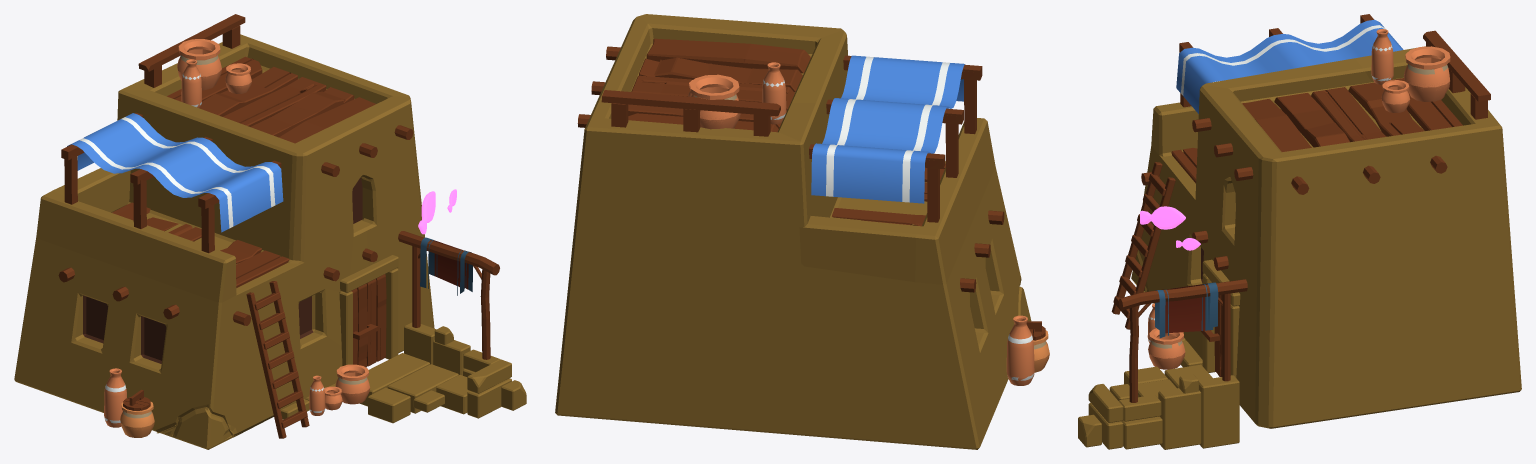
Rendered from desert-house - 副本.glb.
3 renders of one model, left to right at view 1: azimuth 30°, elevation 25°; view 2: azimuth 150°, elevation 25°; view 3: azimuth 270°, elevation 25°, orthographic. The views are drawn at different scales.
Visible parts, largest first — view 1: 整体, 布料, 屋顶木块, 布料架子, 房门, 屋顶木块.001, 楼梯1.001, 平面.002, 柱体.001, 柱体.007, 楼梯1, 柱体.008 (+24 smaller); view 2: 整体, 布料, 屋顶木块, 平面.002, 布料架子, 柱体.008, 小罐子.001, 屋顶木块.001, 小罐子.004, 柱体.003, 带把手罐; view 3: 整体, 屋顶木块, 布料, 屋檐台阶.004, 柱体.007, 屋檐台阶.003, 柱体.008, 柱体.001, 平面.002, 楼梯1.001, 楼梯1, 柱体.010 (+20 smaller).
Part boxes in pixels (<box>): 整体: <box>14,34,434,449</box>; 布料: <box>67,113,283,232</box>; 屋顶木块: <box>167,56,375,143</box>; 布料架子: <box>61,112,281,253</box>; 房门: <box>351,274,386,367</box>; 屋顶木块.001: <box>112,202,289,287</box>; 楼梯1.001: <box>246,281,309,438</box>; 平面.002: <box>138,14,245,87</box>; 柱体.001: <box>233,231,499,325</box>; 柱体.007: <box>420,237,472,295</box>; 楼梯1: <box>254,292,307,428</box>; 柱体.008: <box>177,39,221,90</box>; 整体: <box>555,14,1031,449</box>; 布料: <box>811,55,964,203</box>; 屋顶木块: <box>628,38,810,132</box>; 平面.002: <box>601,90,780,136</box>; 布料架子: <box>809,55,982,222</box>; 柱体.008: <box>689,74,740,129</box>; 小罐子.001: <box>1006,315,1034,385</box>; 屋顶木块.001: <box>832,163,945,226</box>; 小罐子.004: <box>762,62,786,124</box>; 柱体.003: <box>960,210,1004,292</box>; 带把手罐: <box>1033,330,1049,372</box>; 整体: <box>1131,46,1521,428</box>; 屋顶木块: <box>1242,78,1462,151</box>; 布料: <box>1176,19,1403,113</box>; 屋檐台阶.004: <box>1199,375,1239,448</box>; 柱体.007: <box>1155,282,1218,338</box>; 屋檐台阶.003: <box>1158,388,1201,449</box>; 柱体.008: <box>1403,46,1450,101</box>; 柱体.001: <box>1118,172,1247,310</box>; 平面.002: <box>1423,30,1490,119</box>; 楼梯1.001: <box>1111,162,1175,329</box>; 楼梯1: <box>1113,173,1165,318</box>; 柱体.010: <box>1148,328,1185,369</box>.
Bounding box in the file's own units: 3.61 × 2.84 × 3.46.
